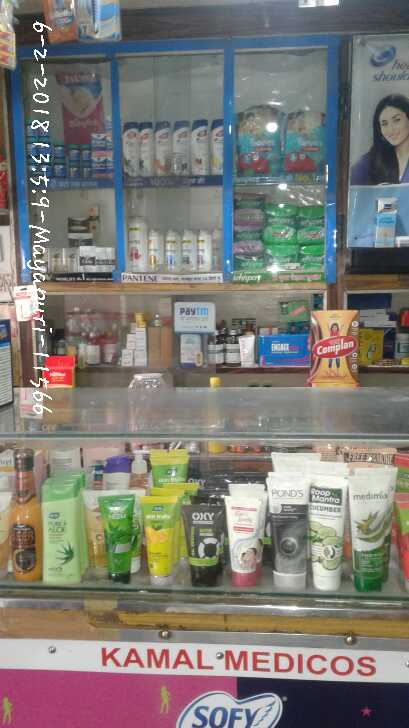vicks: (25, 121, 116, 178)
